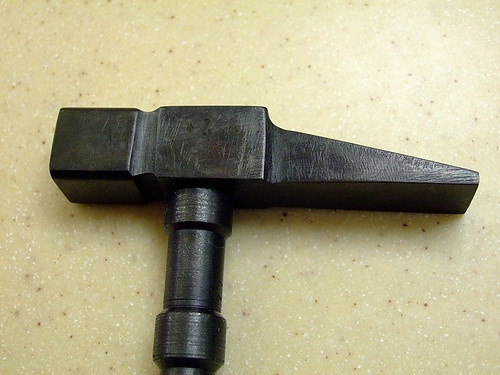hammer: (49, 104, 482, 372)
